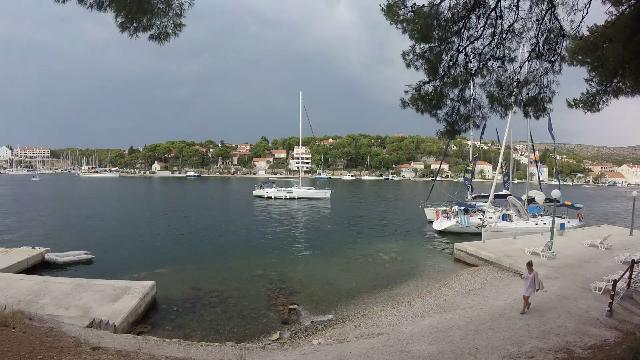Sailboat: (247, 180, 339, 206)
